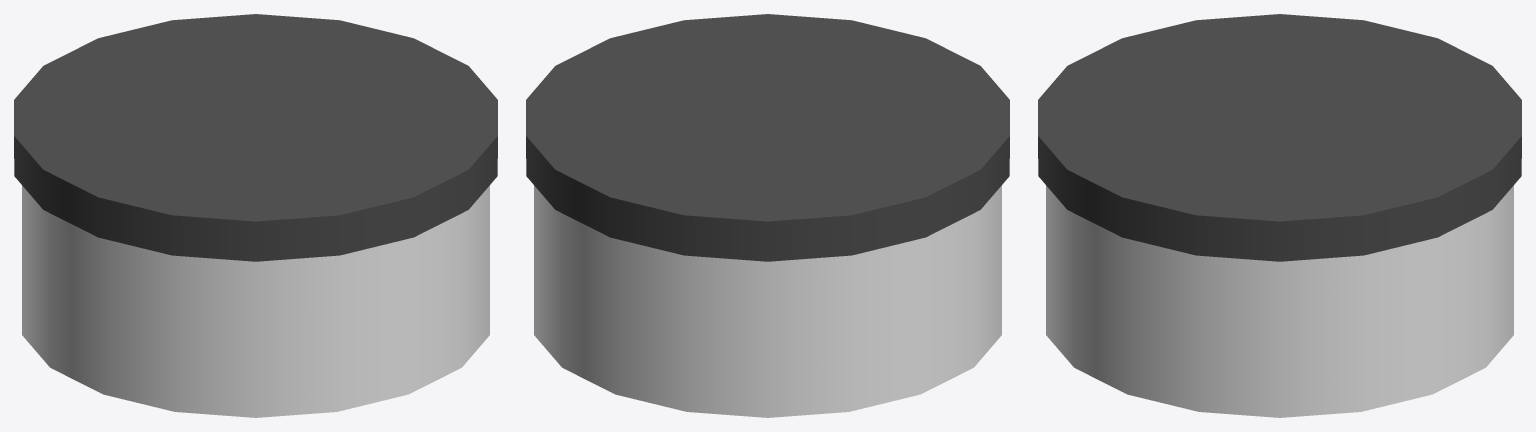
File: RoundBox_a_01.fbx
The picture shows the model from 3 angles, left to right: view 1: azimuth 30°, elevation 25°; view 2: azimuth 150°, elevation 25°; view 3: azimuth 270°, elevation 25°; orthographic projection.
Visible parts, largest first — view 1: RoundBox_a_01; view 2: RoundBox_a_01; view 3: RoundBox_a_01.
Part boxes in pixels (x1,y1,x2,y2): RoundBox_a_01: (14, 14, 497, 417); RoundBox_a_01: (526, 14, 1009, 417); RoundBox_a_01: (1038, 14, 1521, 417).
Size of the model in its own units: 14.27 by 6.4 by 14.06.
